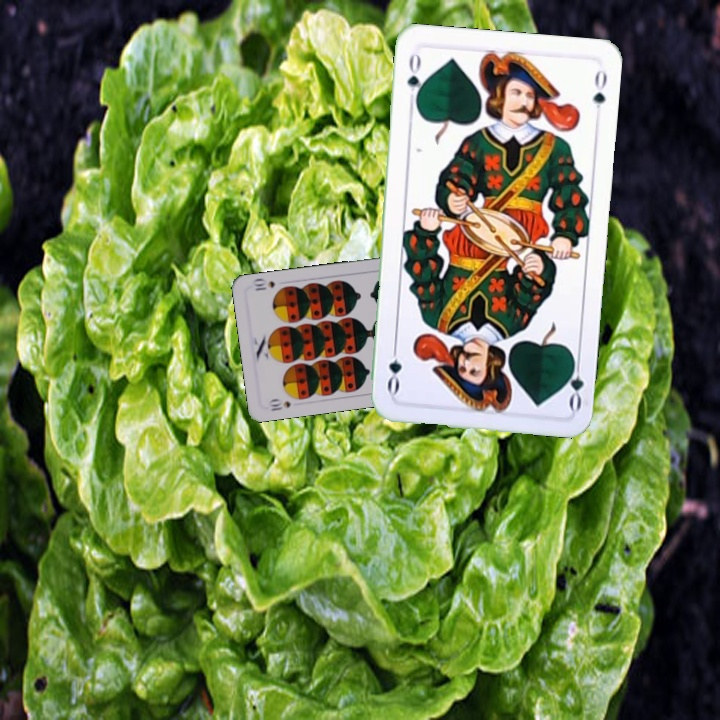GO: (560, 352, 586, 412), (402, 49, 426, 108)
S10: (265, 395, 293, 414)
